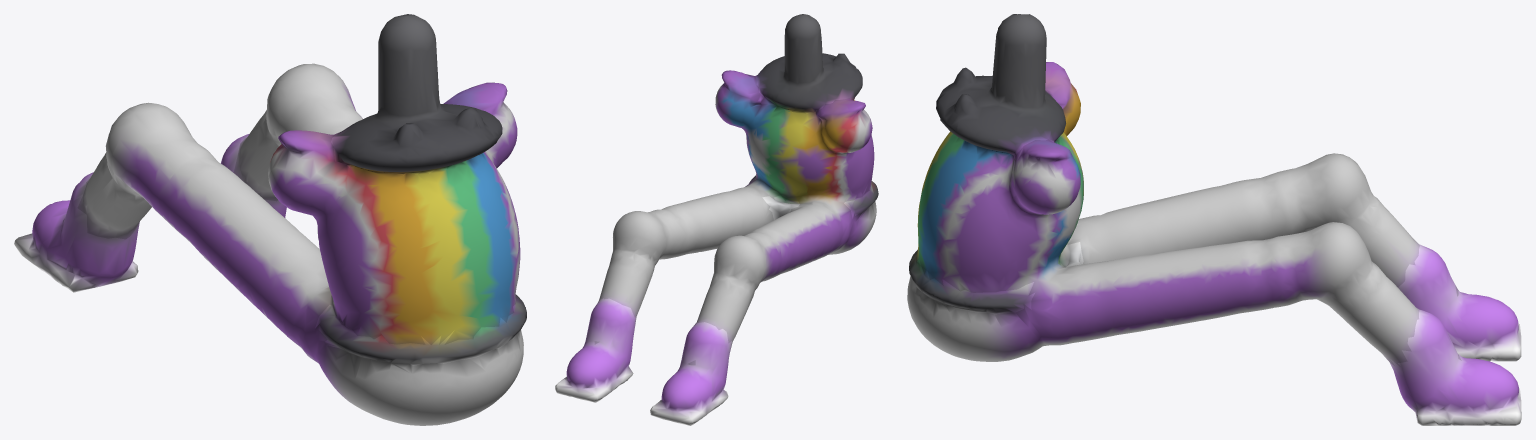
The model's file is pilot_3.glb.
3 renders of one model, left to right at view 1: azimuth 30°, elevation 25°; view 2: azimuth 150°, elevation 25°; view 3: azimuth 270°, elevation 25°, orthographic. The views are drawn at different scales.
Parts seen in each view (by area): view 1: Suit; view 2: Suit; view 3: Suit.
Boxes of the visible parts, left/top/right/bottom form: Suit: left=14, top=14, right=526, bottom=425; Suit: left=555, top=14, right=878, bottom=425; Suit: left=907, top=14, right=1521, bottom=425.
Size of the model in its own units: 0.4753 by 0.8056 by 1.21.
